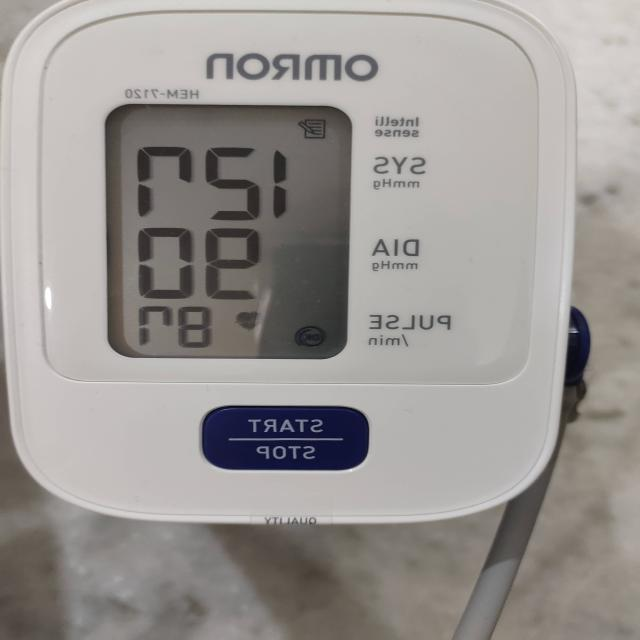bp: (0, 0, 579, 529)
